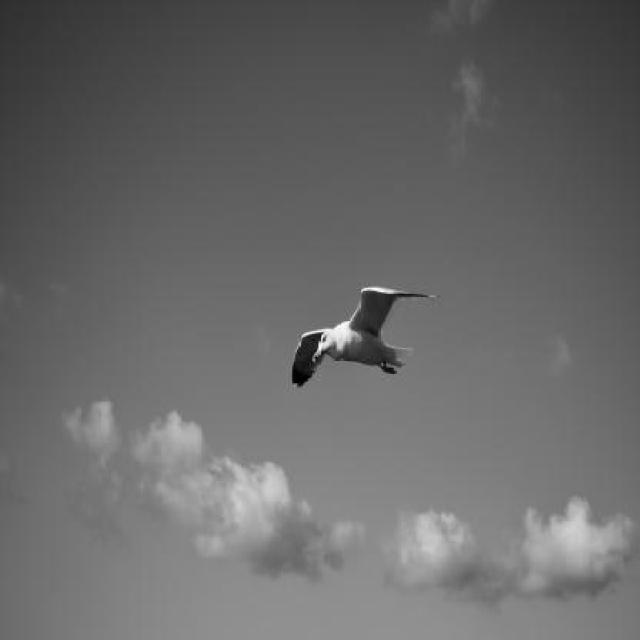bird: (290, 285, 444, 389)
